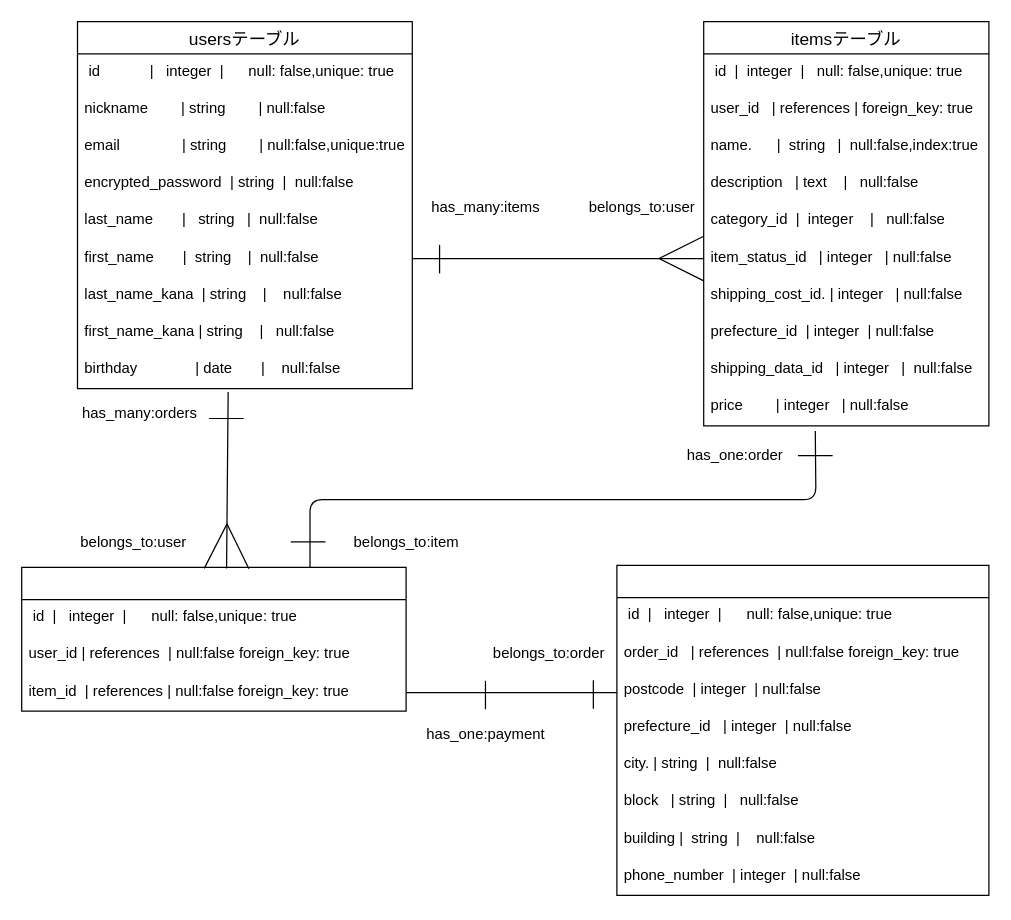
Image size: 1011x920. Some labels were removed from this diagram. Here are the shapes that lost their labels. From the top down, the box of each, then its label:
(20, 566, 406, 711): ordersテーブル
(616, 564, 989, 895): paymentsテーブル
